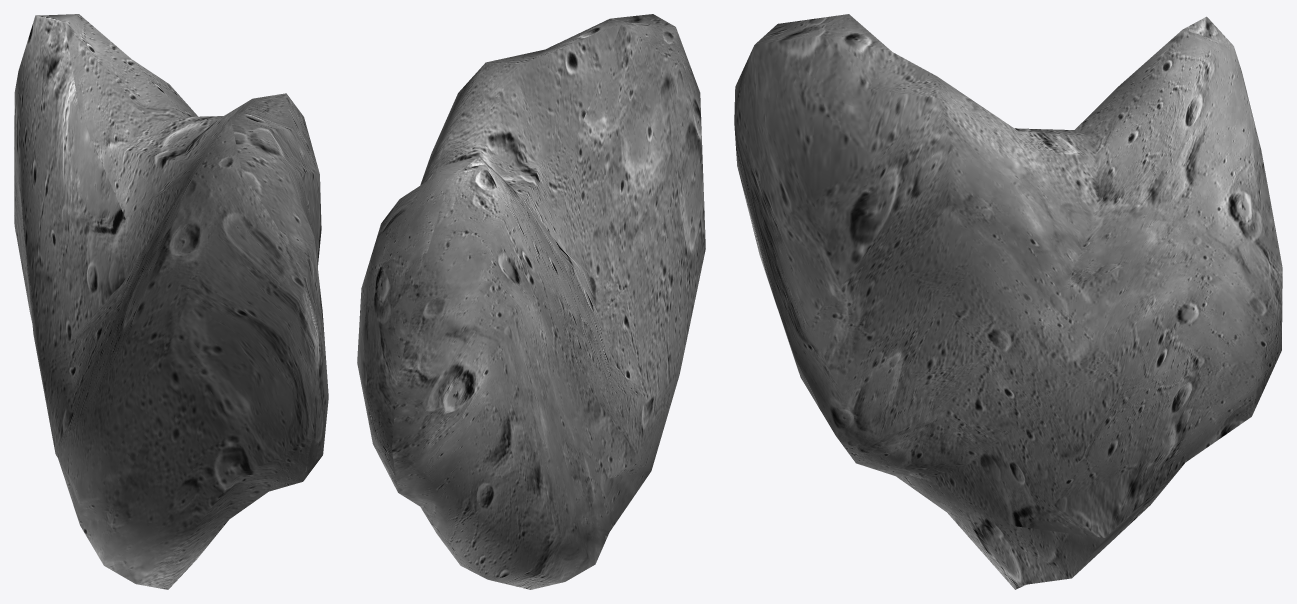
Rendered from asteroid06.FBX.
3 renders of one model, left to right at view 1: azimuth 30°, elevation 25°; view 2: azimuth 150°, elevation 25°; view 3: azimuth 270°, elevation 25°, orthographic. The views are drawn at different scales.
Parts seen in each view (by area): view 1: Asteroid006; view 2: Asteroid006; view 3: Asteroid006.
Part boxes in pixels (x1,y1,x2,y2): Asteroid006: (14,14,328,589); Asteroid006: (357,14,705,589); Asteroid006: (734,14,1282,589).
Size of the model in its own units: 70.1 by 153 by 134.
Materials: 1 (1 with a texture image).
